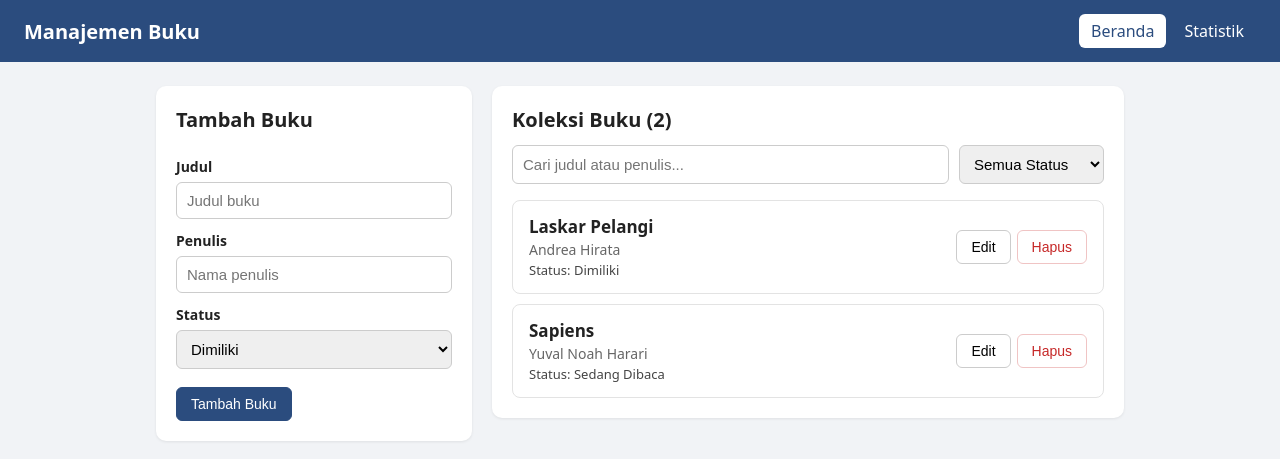
Scenario: App › pencarian hanya menampilkan buku yang cocok
Type "harari" into the field with placeholder "Cari judul atau penulis..." at point(730, 164), box [512,145,949,184]
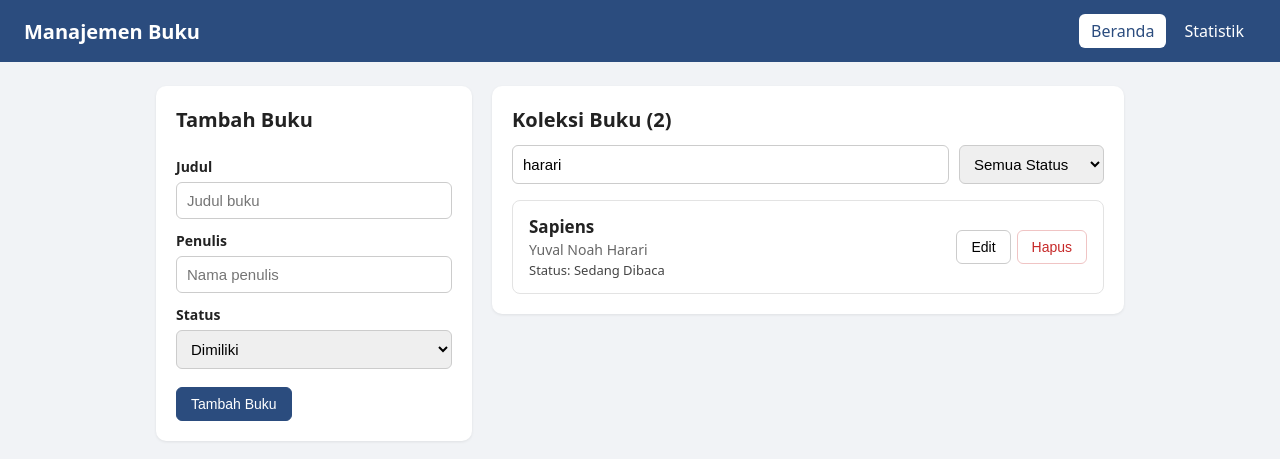
expect the heading "Sapiens" is shown: met, box [529,215,594,238]
expect the heading "Laskar Pelangi" is gone: met
